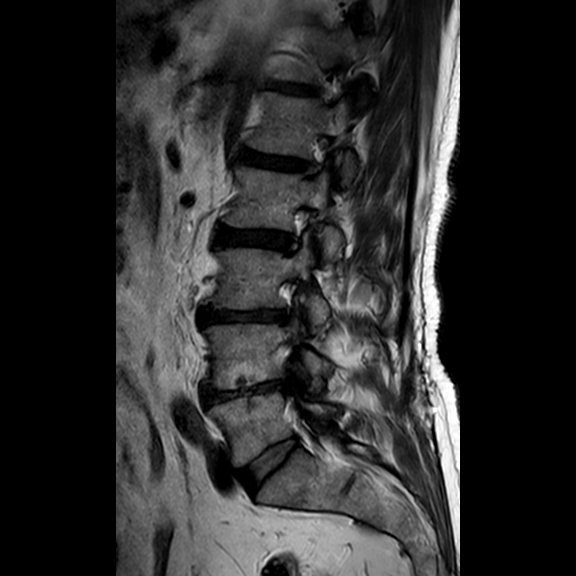LFS0: (272, 195, 320, 264)
